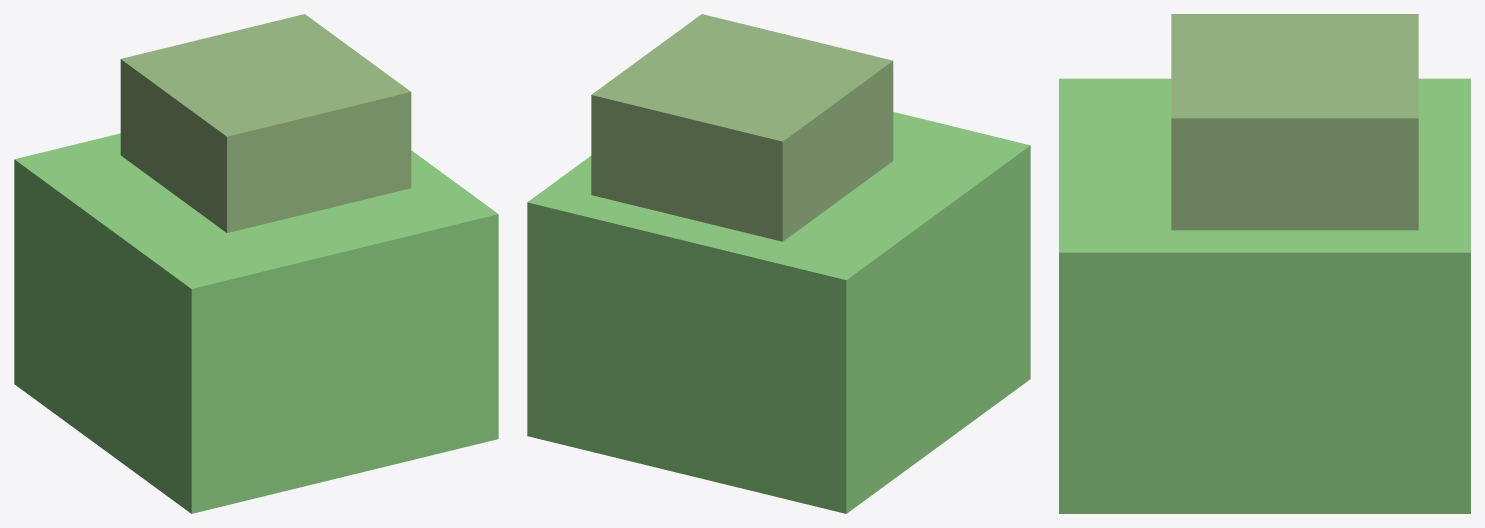
The model's file is Prop_Dress_AMF_Bush_V23.glb.
3 views of the same model, side by side, from view 1: azimuth 30°, elevation 25°; view 2: azimuth 150°, elevation 25°; view 3: azimuth 270°, elevation 25° (orthographic). The views are drawn at different scales.
Parts seen in each view (by area): view 1: Prop_Dress_AMF_Bush_V23; view 2: Prop_Dress_AMF_Bush_V23; view 3: Prop_Dress_AMF_Bush_V23.
Boxes of the visible parts, x1,y1,x2,y2 form: Prop_Dress_AMF_Bush_V23: (14,14,498,513); Prop_Dress_AMF_Bush_V23: (527,14,1030,513); Prop_Dress_AMF_Bush_V23: (1059,14,1470,513).
Bounding box in the file's own units: 1.37 × 1.37 × 1.37.
